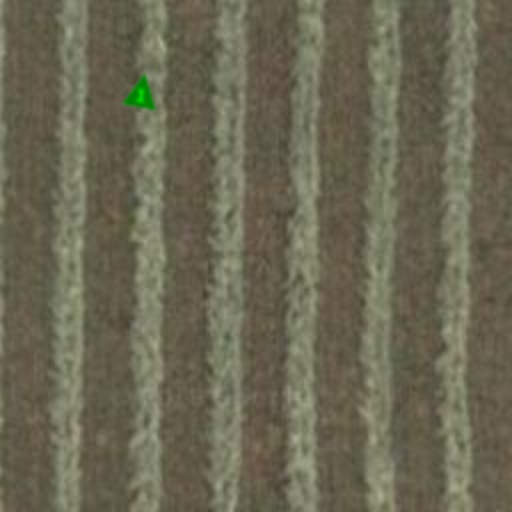triangle: (120, 68, 164, 112)
